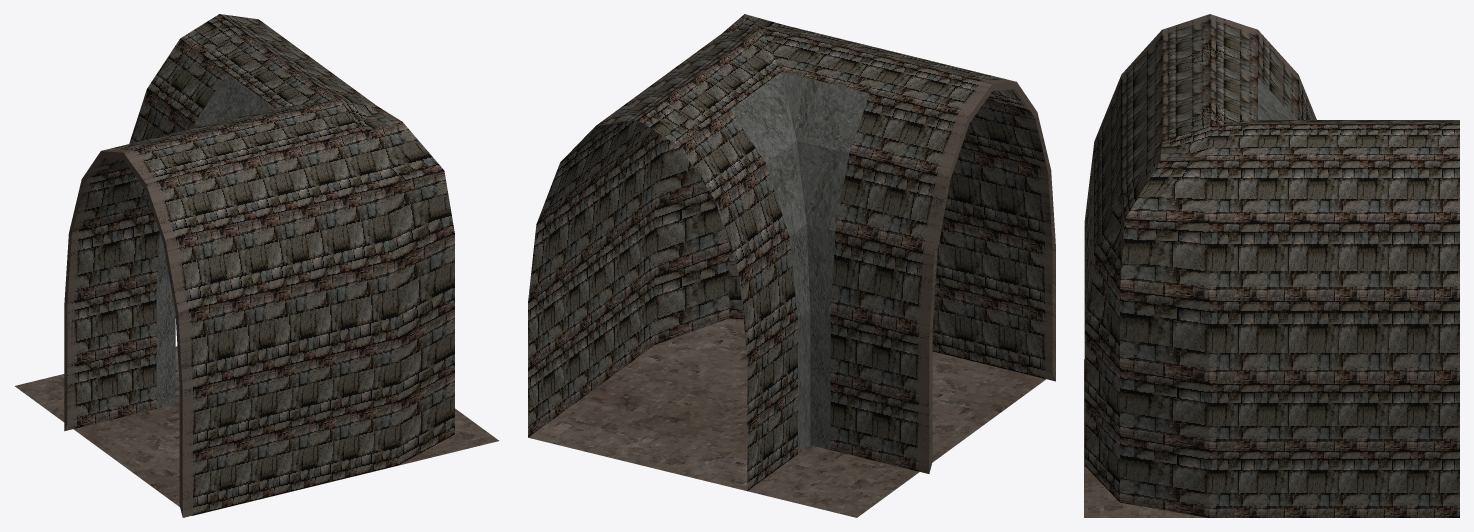
The model's file is dungeon_turn_a_model.gltf.
The picture shows the model from 3 angles, left to right: view 1: azimuth 30°, elevation 25°; view 2: azimuth 150°, elevation 25°; view 3: azimuth 270°, elevation 25°; orthographic projection. The views are drawn at different scales.
Visible parts, largest first — view 1: Cube.001; view 2: Cube.001; view 3: Cube.001.
Boxes of the visible parts, x1=… form: Cube.001: x1=15, y1=14, x2=498, y2=517; Cube.001: x1=528, y1=14, x2=1055, y2=517; Cube.001: x1=1084, y1=14, x2=1459, y2=517.
Size of the model in its own units: 3.09 by 3 by 3.
4 materials, 4 textured.
